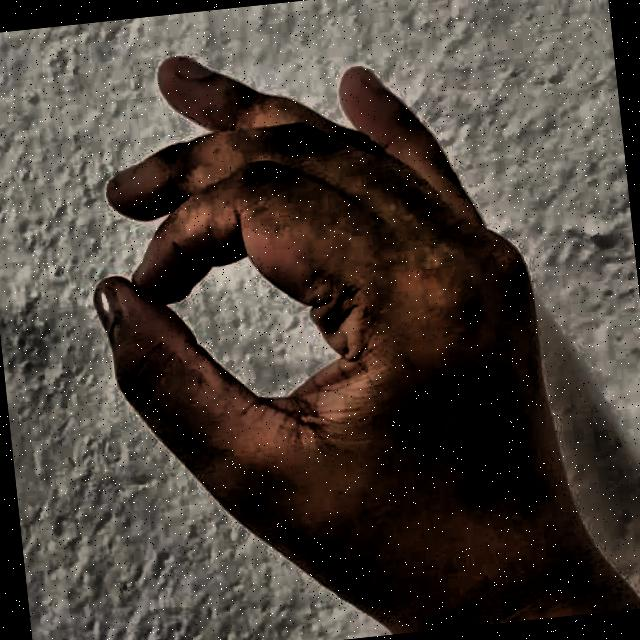Yo: (31, 0, 620, 640)
